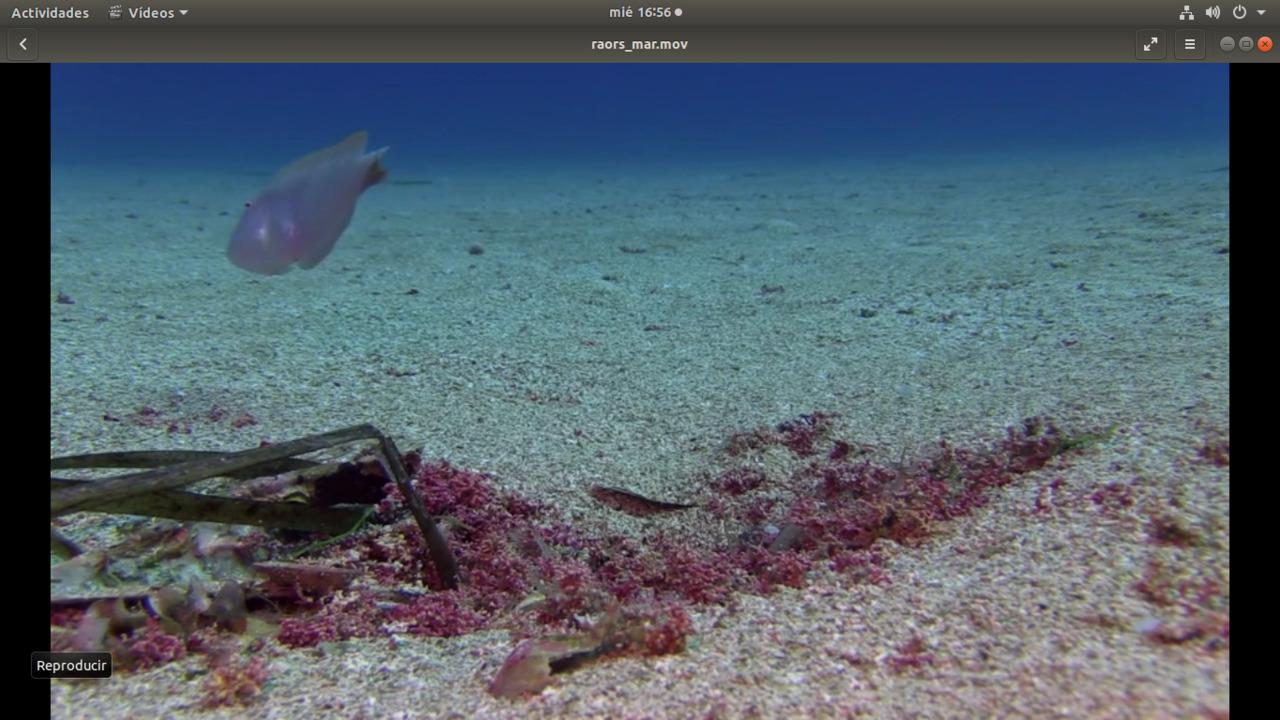raor: (217, 122, 398, 295)
